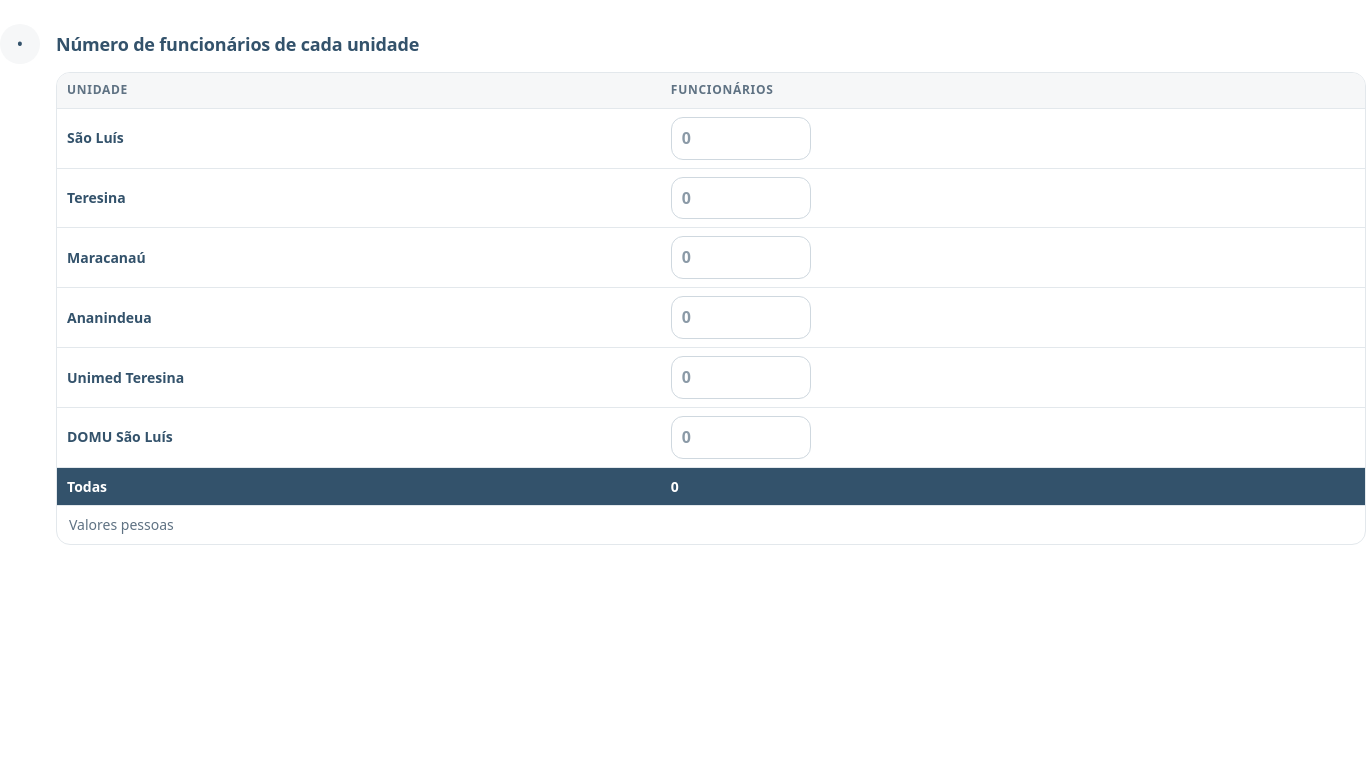
Test: perguntas por unidade › guarda o total de funcionários de cada unidade, só com dígitos
In the field named "Funcionários — São Luís": point(741, 138) [671,117,811,160], type "1a2"
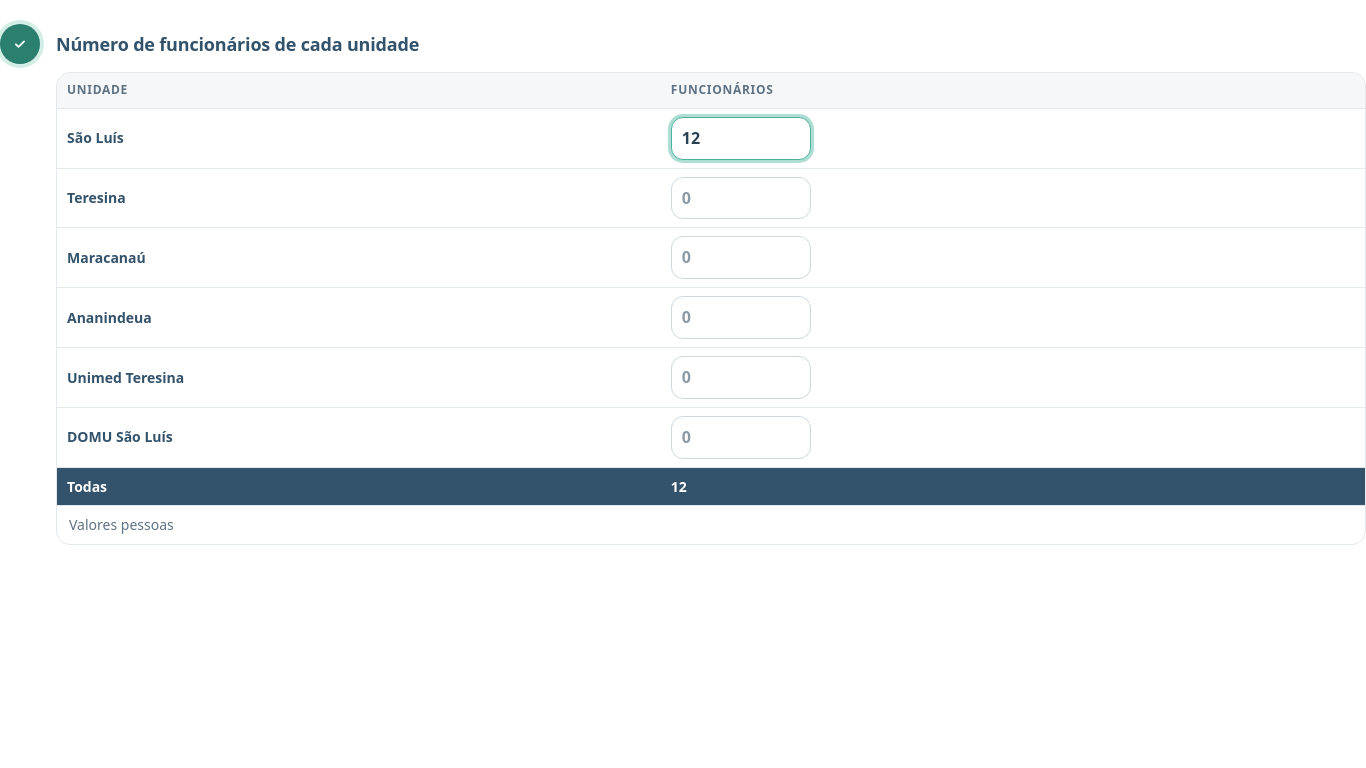
In the field named "Funcionários — Teresina": point(741, 198) [671,177,811,220], type "5"
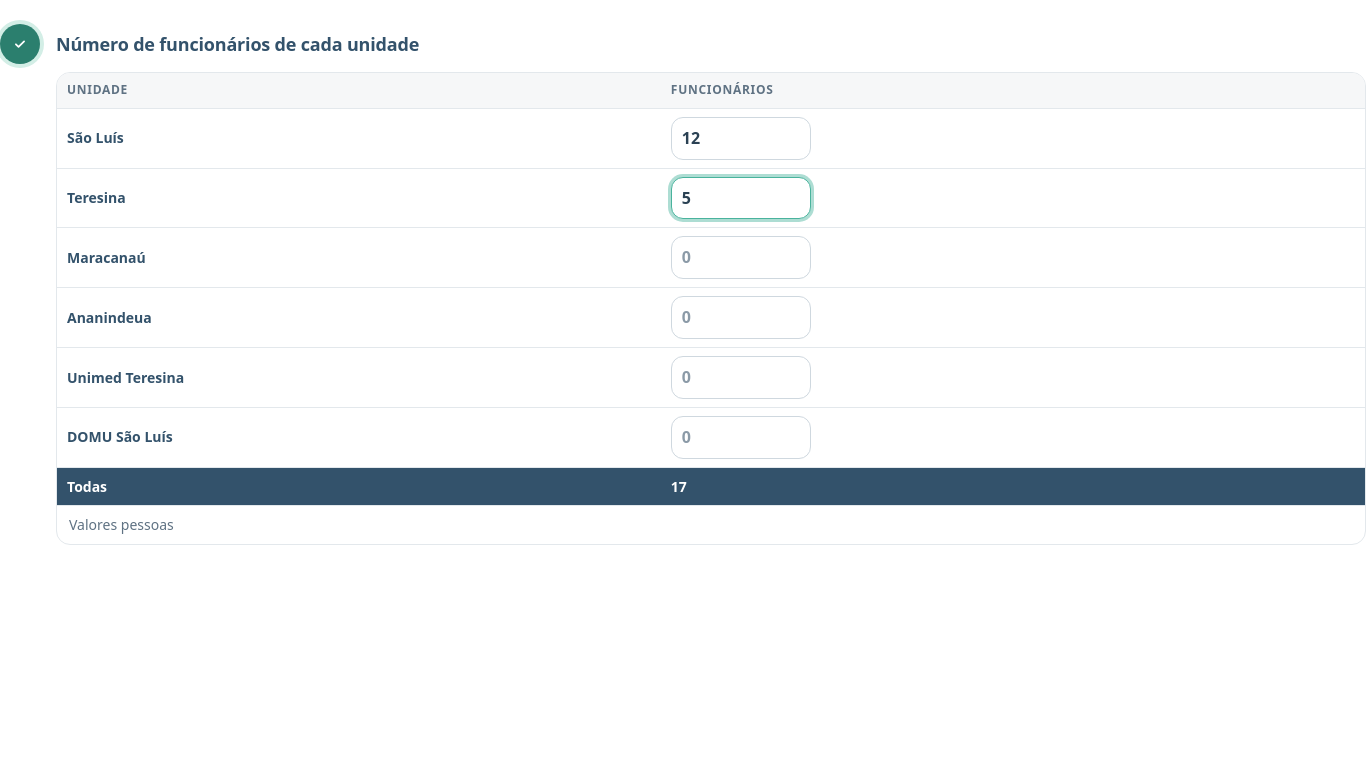
Expected: the column headings read "Unidade", "Funcionários", in this order, [57,73,661,108]; [661,73,1365,108]
Expected: the field named "Funcionários — São Luís" holds "12", [671,117,811,160]
Expected: the row "Todas" reads "Todas 17", [57,467,1365,505]
